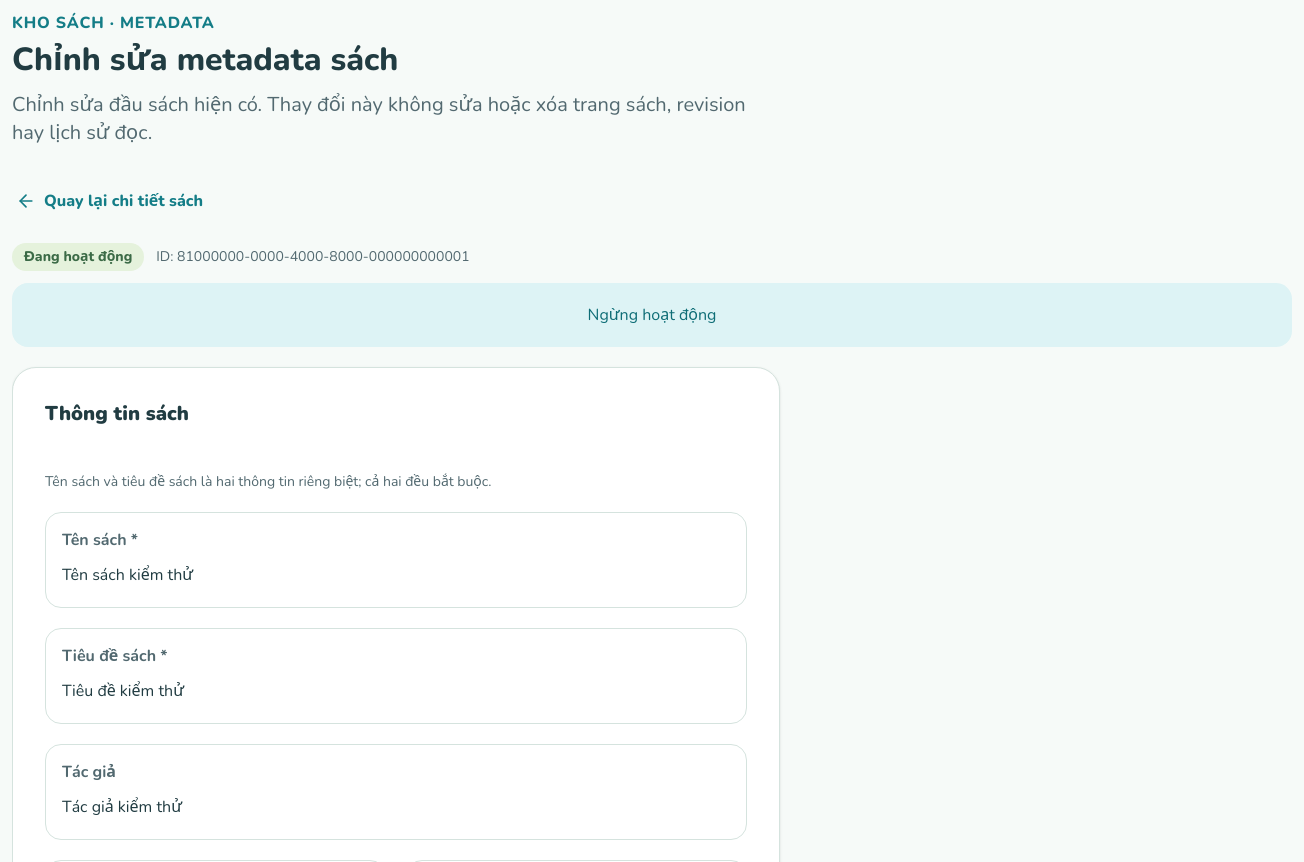
Test: AdminBookEditorScreen › retires only through the lifecycle API after confirmation
Expected: the field labelled "Tiêu đề sách *" is shown, [62,676,730,707]
Click the button "Ngừng hoạt động" at point(652, 315), box [12,283,1292,347]
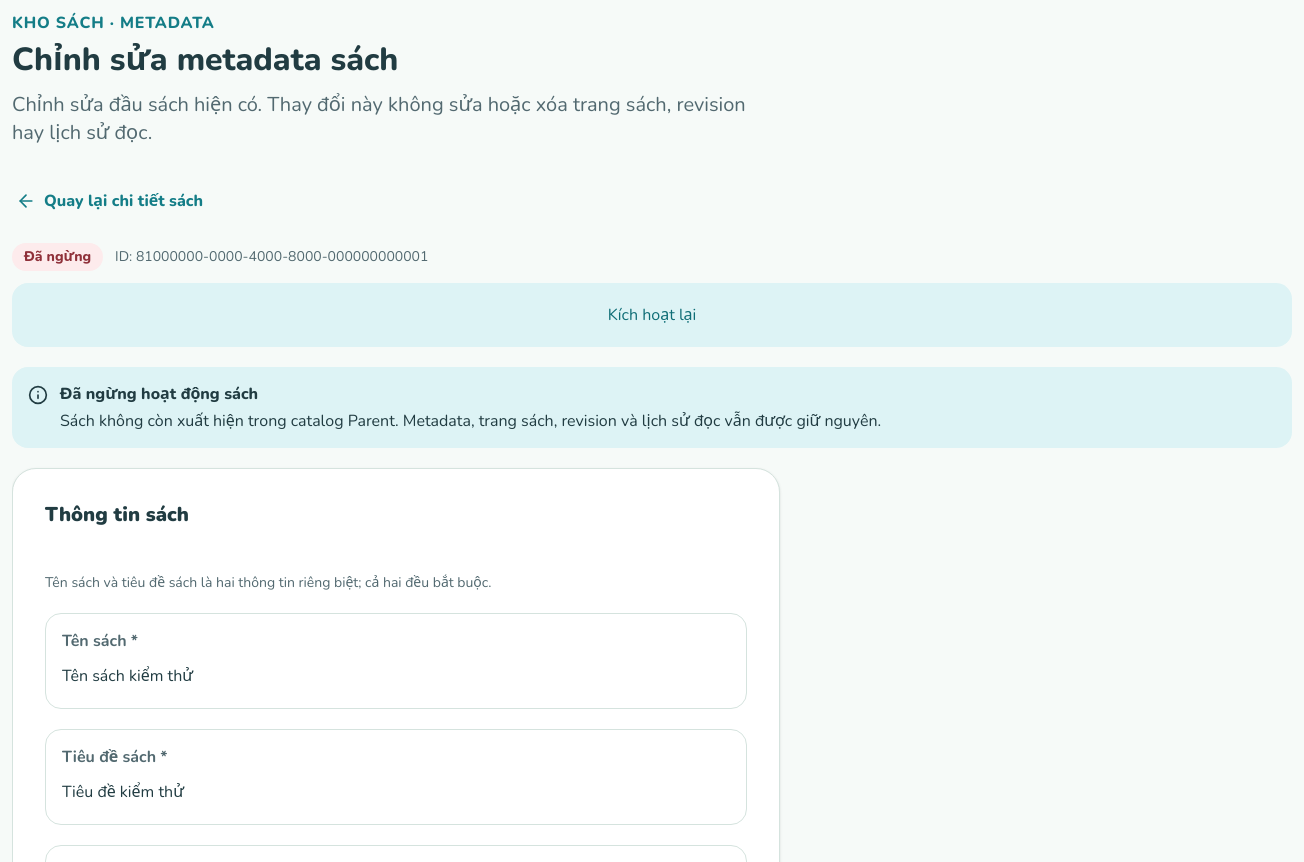
Now the button "Kích hoạt lại" is shown, box [12,283,1292,347]
Now the text "lịch sử đọc vẫn được giữ nguyên" is shown, box [60,410,881,432]
